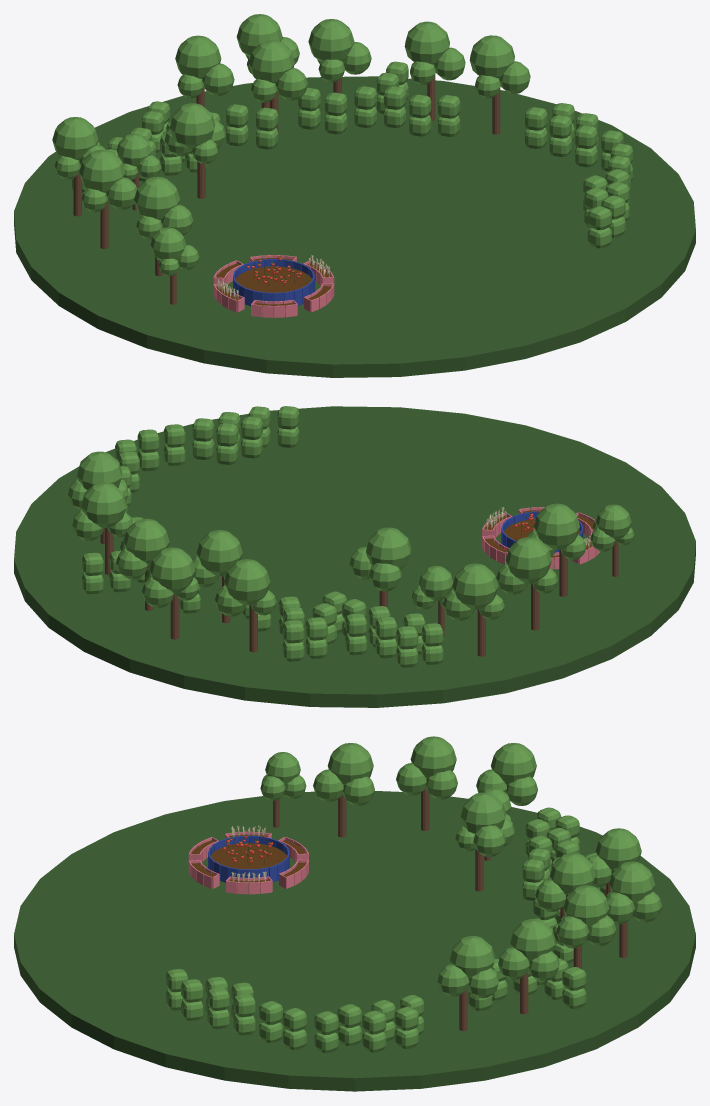
File: EXP_ground_trees_garden.glb
3 renders of one model, top to bottom at view 1: azimuth 30°, elevation 25°; view 2: azimuth 150°, elevation 25°; view 3: azimuth 270°, elevation 25°, orthographic.
Visible parts, largest first — view 1: Ground, Trees, Garden; view 2: Ground, Trees, Garden; view 3: Ground, Trees, Garden.
Boxes of the visible parts, x1,y1,x2,y2 form: Ground: (14,76,695,377); Trees: (52,14,632,304); Garden: (213,255,334,317); Ground: (14,406,695,707); Trees: (68,406,634,667); Garden: (482,507,600,569); Ground: (14,791,695,1091); Trees: (166,736,661,1053); Garden: (188,825,308,894).
Size of the model in its own units: 13.32 by 2.29 by 13.32.
15 materials, 7 textured.
